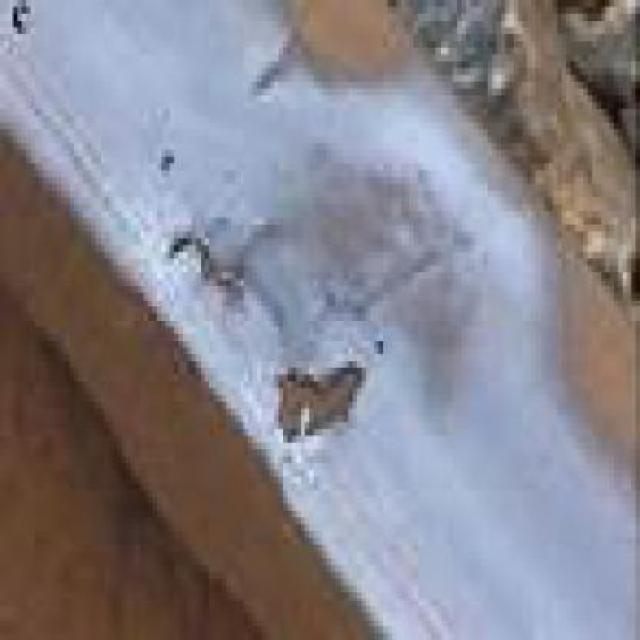defective: (16, 31, 596, 640)
